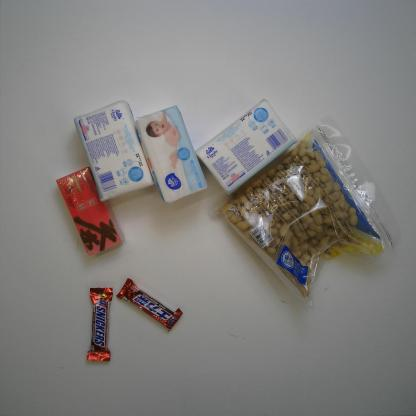Chocolate: (116, 276, 184, 333), (86, 287, 114, 362)
Dried Food: (212, 116, 401, 310)
Instant Drink: (56, 166, 125, 257)
Tissue: (195, 97, 299, 199), (73, 100, 155, 203), (133, 105, 208, 205)
